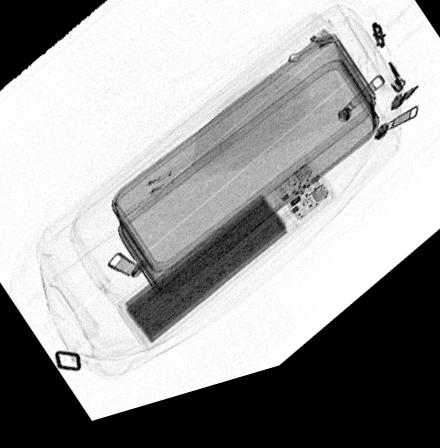Powerbank: (119, 171, 335, 360)
